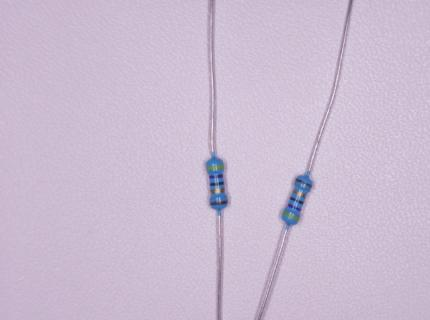Black band: (290, 196, 304, 205), (210, 181, 224, 186)
Brown band: (295, 178, 313, 188), (210, 200, 228, 205)
Gold band: (292, 190, 307, 199), (210, 187, 225, 194)
Violet band: (287, 203, 301, 212), (209, 174, 223, 178)
Yellow band: (282, 211, 300, 221), (206, 164, 224, 170)
